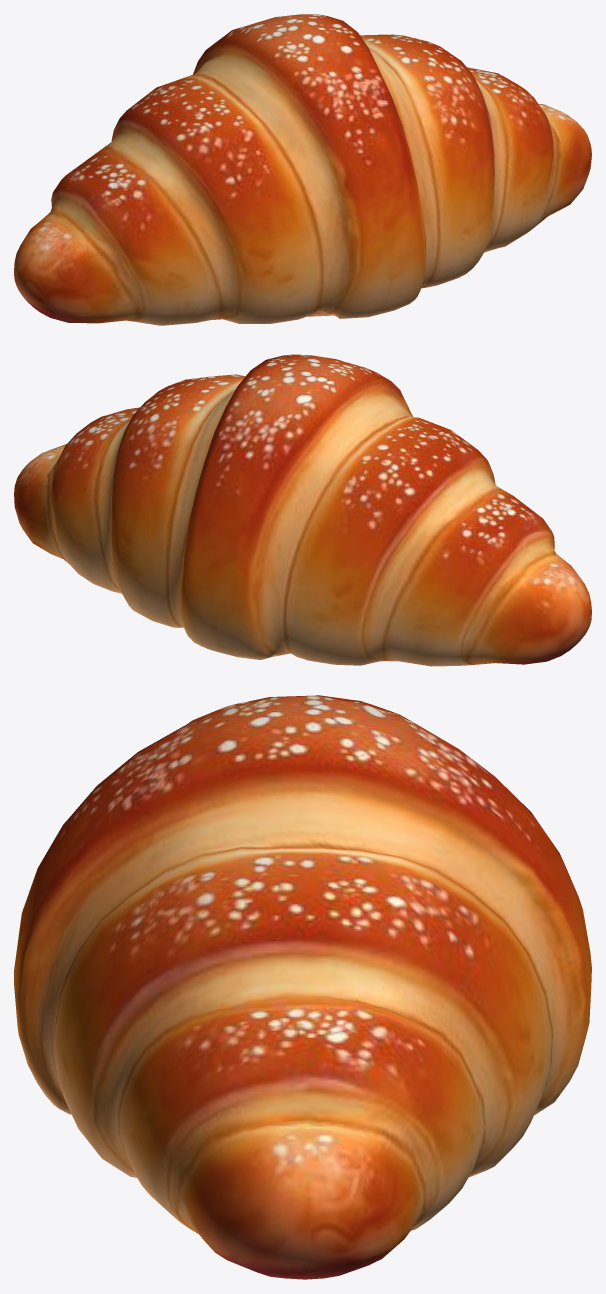
3 renders of one model, top to bottom at view 1: azimuth 30°, elevation 25°; view 2: azimuth 150°, elevation 25°; view 3: azimuth 270°, elevation 25°, orthographic. The views are drawn at different scales.
Size of the model in its own units: 1.91 by 0.7463 by 1.05.
Materials: 1 (1 with a texture image).
